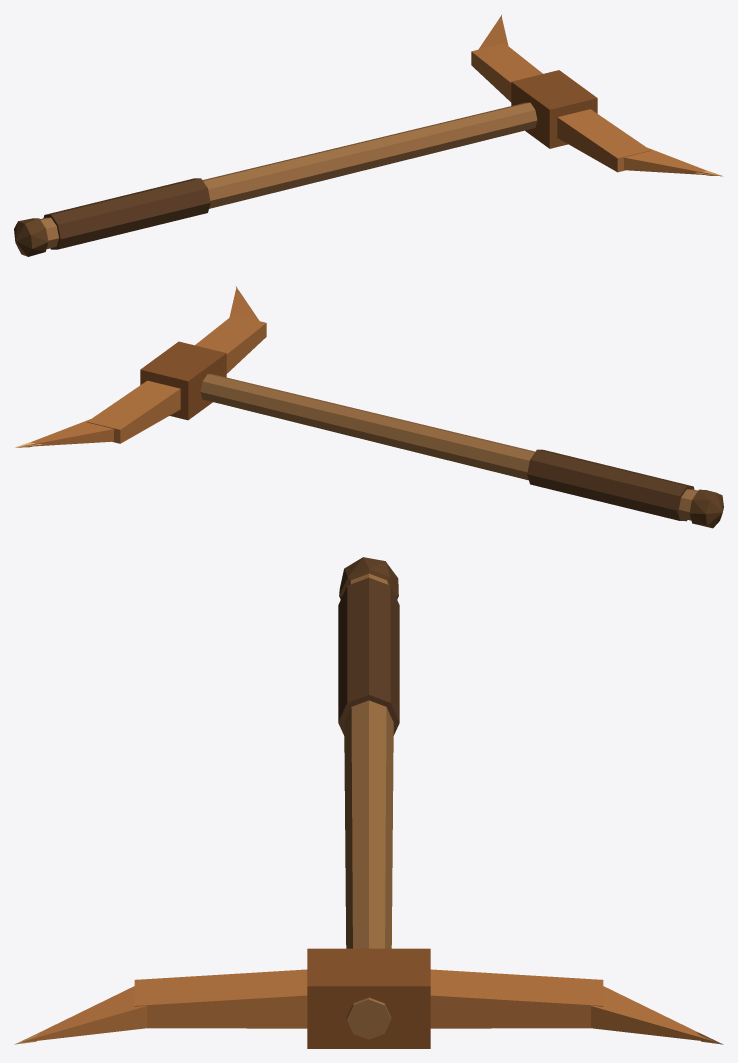
The model's file is drop_bronze_pickaxe.glb.
3 renders of one model, top to bottom at view 1: azimuth 30°, elevation 25°; view 2: azimuth 150°, elevation 25°; view 3: azimuth 270°, elevation 25°, orthographic. The views are drawn at different scales.
Parts seen in each view (by area): view 1: drop_bronze_pickaxe; view 2: drop_bronze_pickaxe; view 3: drop_bronze_pickaxe.
Part boxes in pixels (left/top/right/bottom): drop_bronze_pickaxe: left=14, top=15, right=723, bottom=256; drop_bronze_pickaxe: left=15, top=286, right=723, bottom=528; drop_bronze_pickaxe: left=14, top=557, right=723, bottom=1048.
Bounding box in the file's own units: 0.7176 × 0.0448 × 0.4608.
